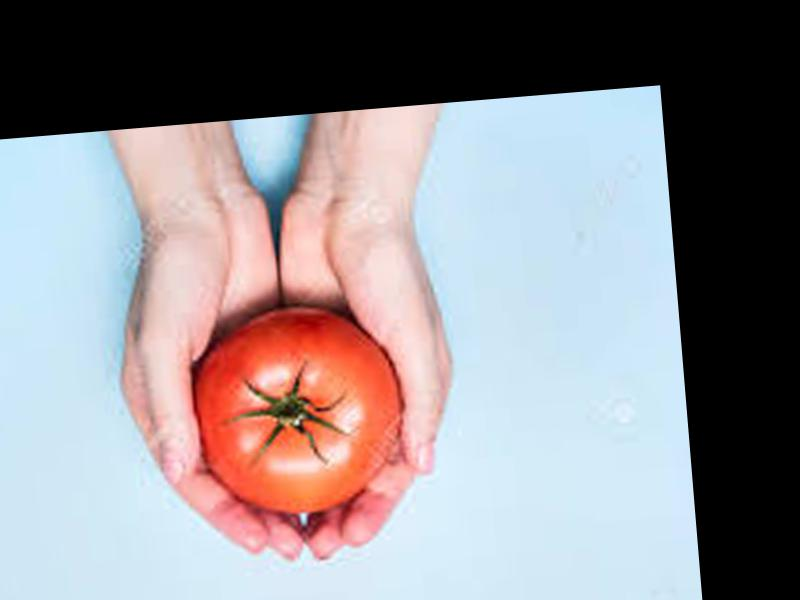Tomato: (182, 301, 409, 520)
